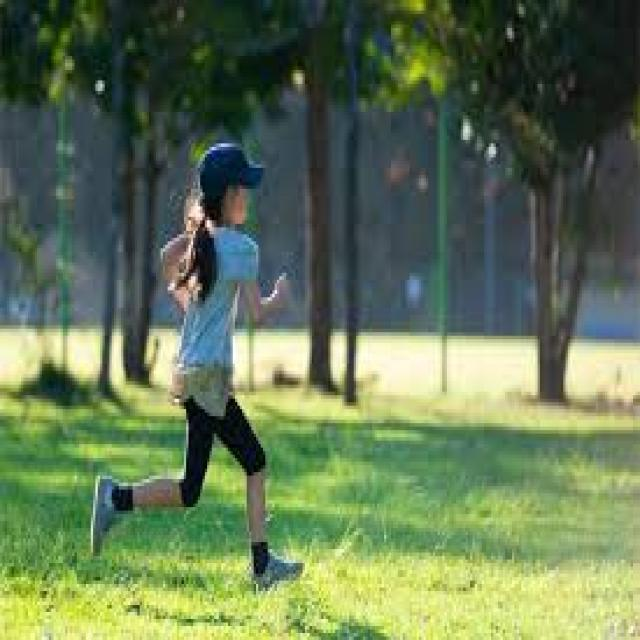Person: (91, 146, 303, 584)
